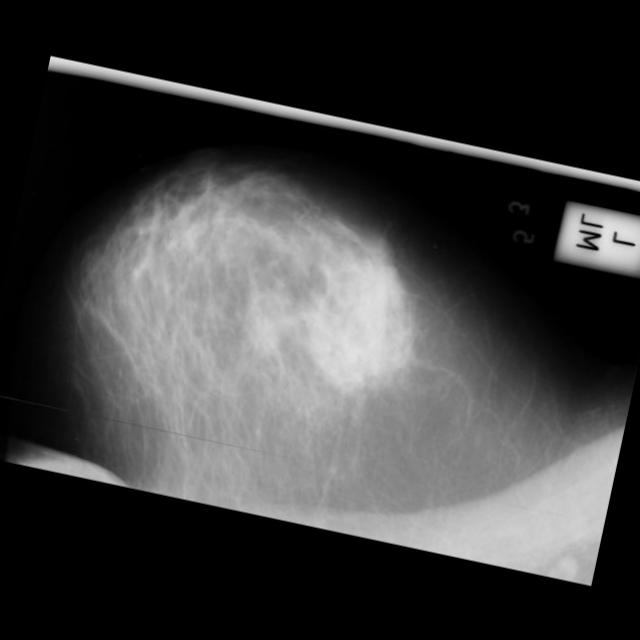ASYM: (280, 244, 438, 404)
